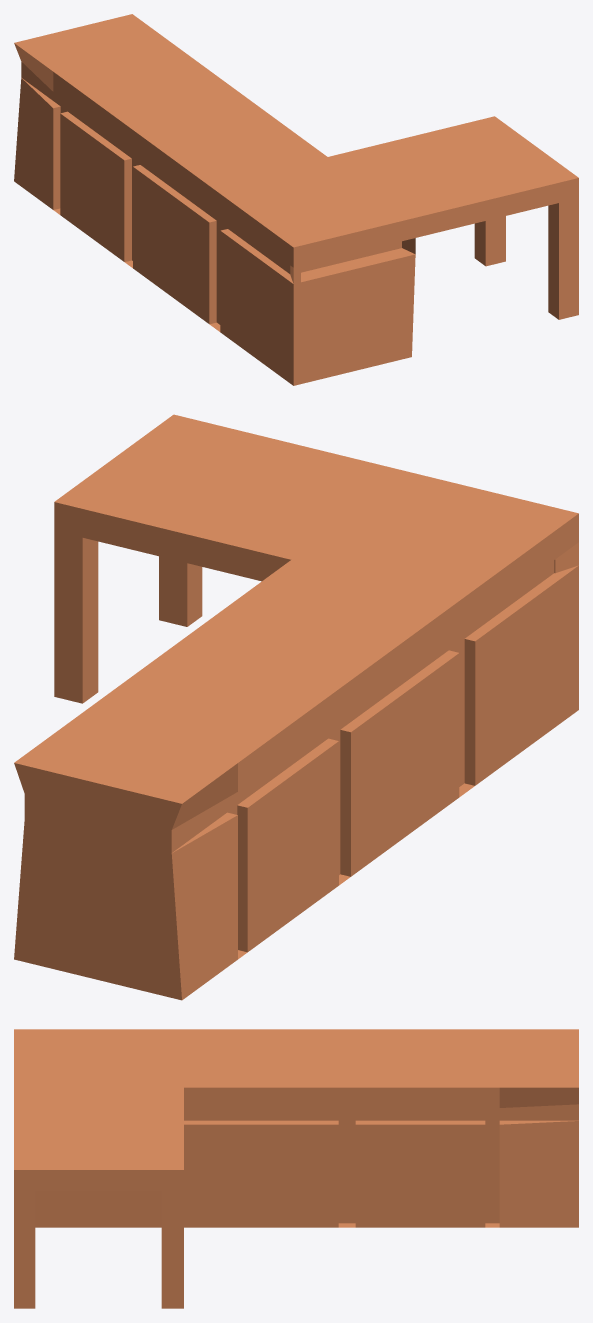
Rendered from meja L.fbx.
3 renders of one model, top to bottom at view 1: azimuth 30°, elevation 25°; view 2: azimuth 150°, elevation 25°; view 3: azimuth 270°, elevation 25°, orthographic. The views are drawn at different scales.
Visible parts, largest first — view 1: Cube; view 2: Cube; view 3: Cube.
Part boxes in pixels (bbox=[...]): Cube: bbox=[14, 14, 578, 385]; Cube: bbox=[14, 414, 578, 1000]; Cube: bbox=[14, 1029, 578, 1308].
Bounding box in the file's own units: 863 × 400 × 1464.
